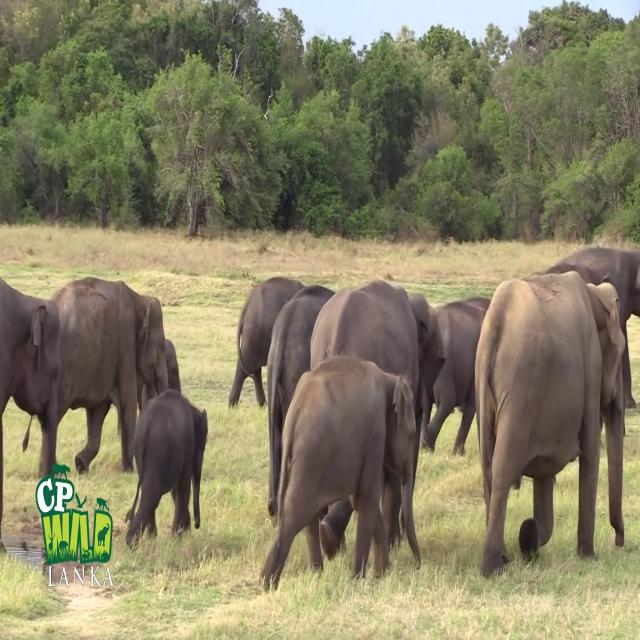Elephant: (474, 269, 626, 578), (259, 354, 421, 592), (22, 275, 168, 476), (535, 244, 640, 412), (0, 275, 61, 540), (124, 387, 208, 550), (419, 294, 491, 456), (228, 275, 304, 409)
